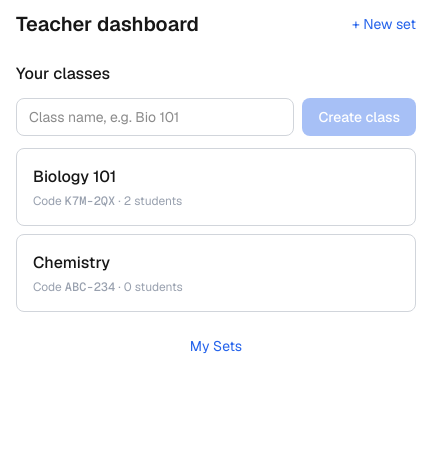
teacher dashboard › creates a class and shows it at the top
expect the link "Biology 101 Code K7M-2QX · 2 students" is shown: met, box x1=16 y1=148 x2=416 y2=226
expect the button "Create class" is disabled: met, box x1=302 y1=98 x2=416 y2=136
In the field named "New class name": (155, 117) x1=16 y1=98 x2=294 y2=136, type "Physics"
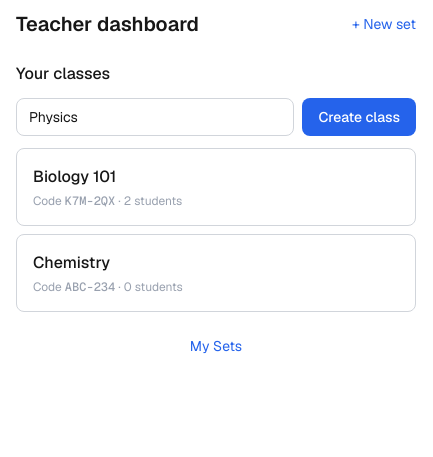
Click the button "Create class": (359, 117) x1=302 y1=98 x2=416 y2=136
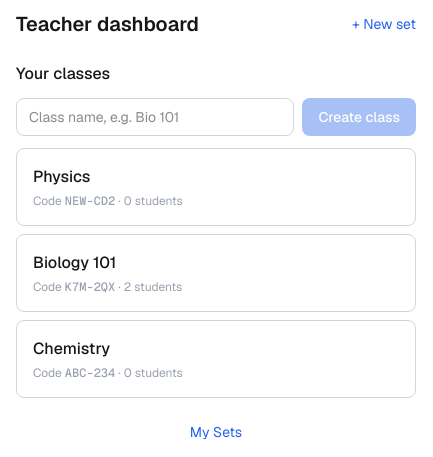
expect the link "Physics Code NEW-CD2 · 0 students" is shown: met, box x1=16 y1=148 x2=416 y2=226
expect the field named "New class name" is empty: met, box x1=16 y1=98 x2=294 y2=136
